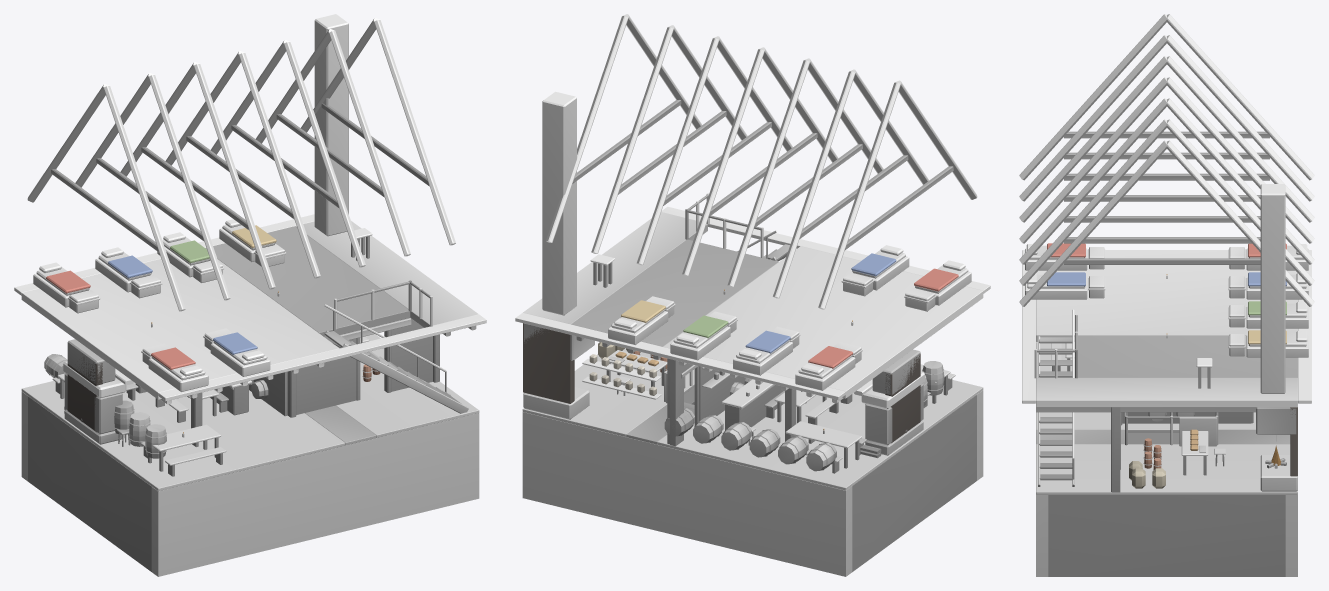
The model's file is tavern_interior.glb.
3 views of the same model, side by side, from view 1: azimuth 30°, elevation 25°; view 2: azimuth 150°, elevation 25°; view 3: azimuth 270°, elevation 25° (orthographic). The views are drawn at different scales.
Parts seen in each view (by area): view 1: baluster; view 2: baluster; view 3: baluster.
Part boxes in pixels (x1,y1,x2,y2): baluster: (14,14,486,576); baluster: (515,14,990,576); baluster: (1019,14,1314,576).
Size of the model in its own units: 11.42 by 14.86 by 9.47.
